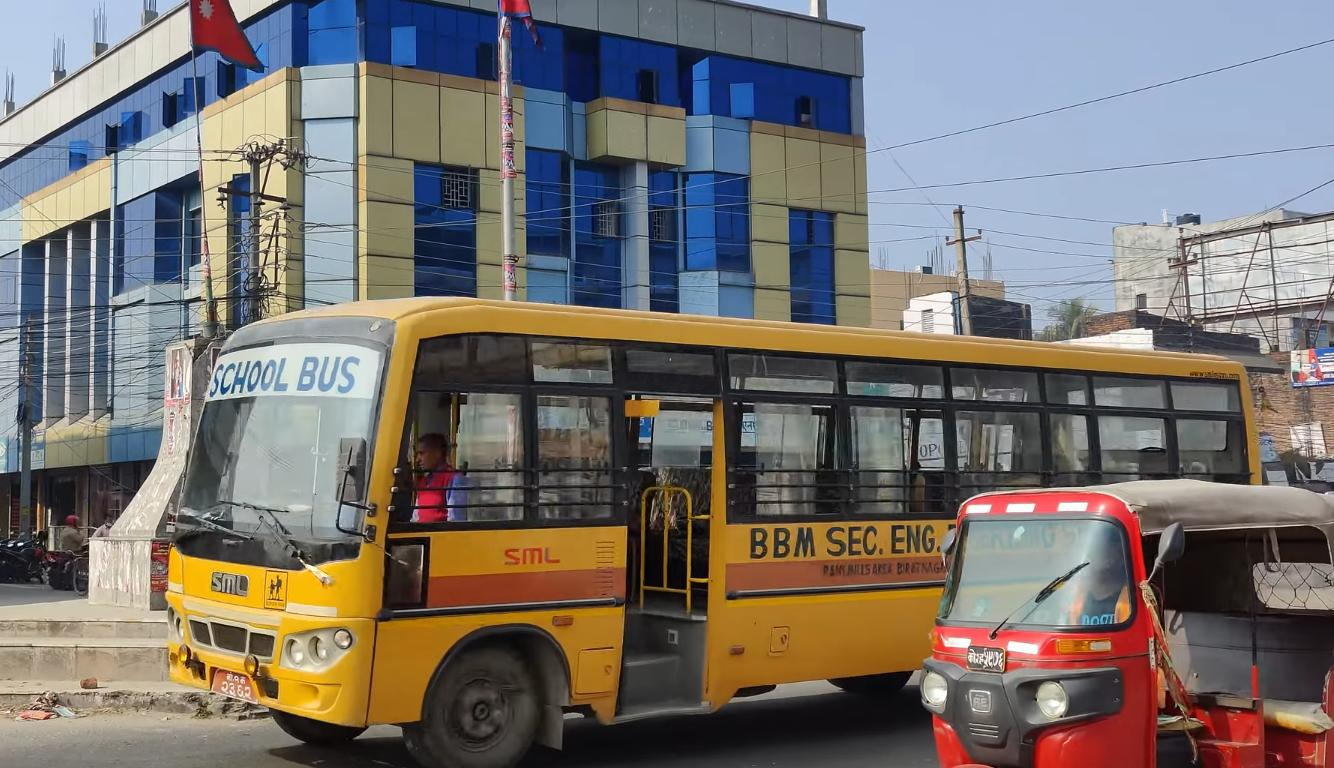auto_rickshaw: (918, 477, 1334, 768)
school_bus: (158, 282, 1264, 768)
